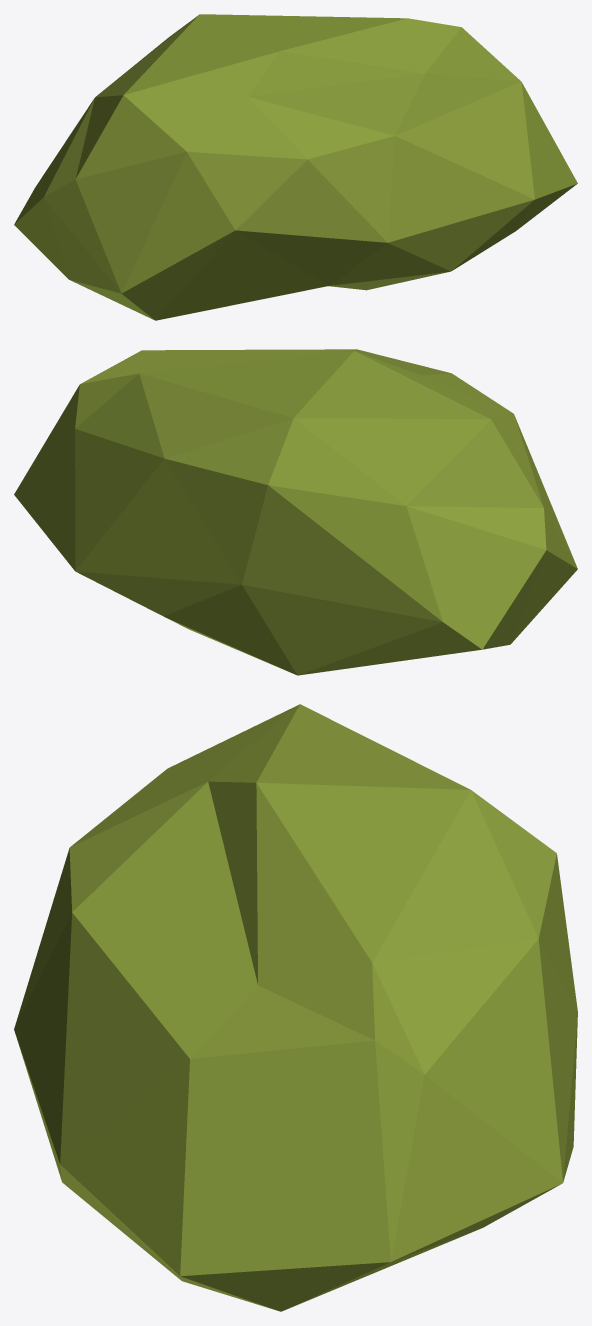
Rendered from island_bush_1.fbx.
The picture shows the model from 3 angles, top to bottom: view 1: azimuth 30°, elevation 25°; view 2: azimuth 150°, elevation 25°; view 3: azimuth 270°, elevation 25°; orthographic projection. The views are drawn at different scales.
Parts seen in each view (by area): view 1: Icosphere.004; view 2: Icosphere.004; view 3: Icosphere.004.
Boxes of the visible parts, box(x1,y1,x2,y2) form: Icosphere.004: box(14, 14, 577, 320); Icosphere.004: box(14, 349, 577, 675); Icosphere.004: box(14, 704, 577, 1311).
Size of the model in its own units: 1.74 by 0.818 by 1.12.
